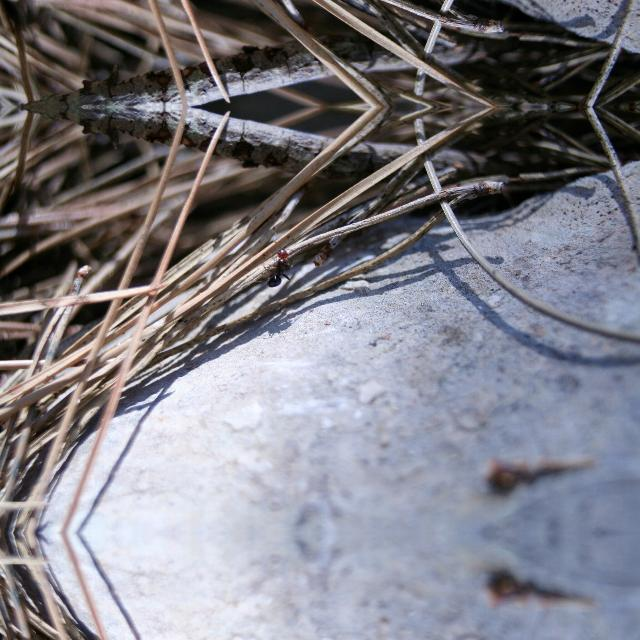Camponotus: (261, 244, 297, 290)
